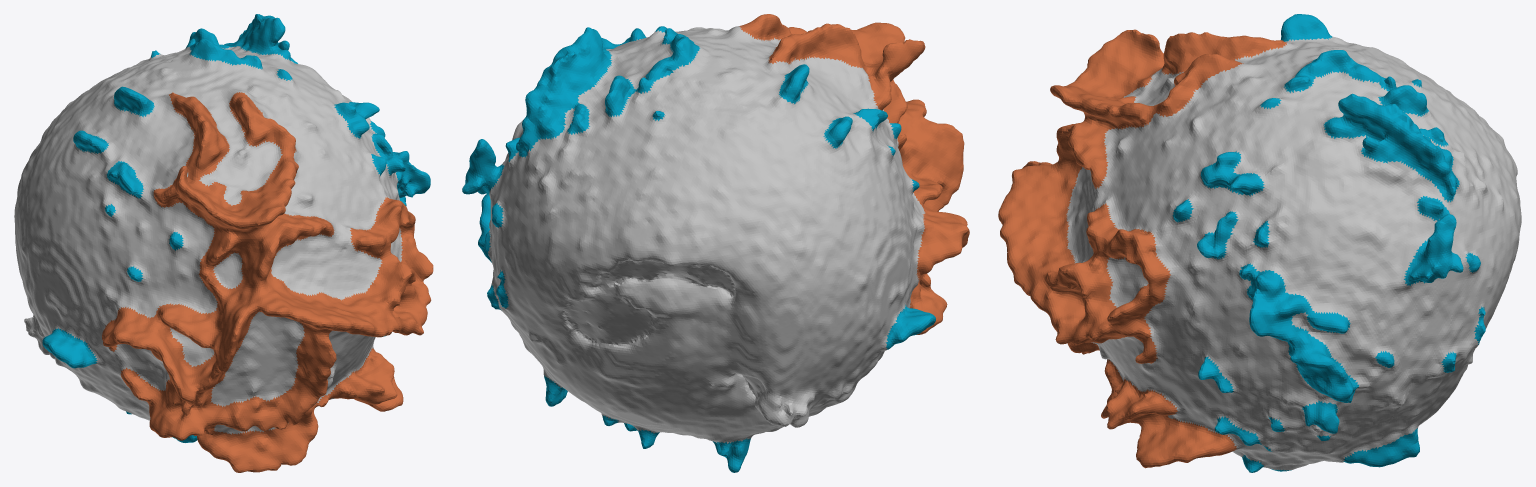
3 views of the same model, side by side, from view 1: azimuth 30°, elevation 25°; view 2: azimuth 150°, elevation 25°; view 3: azimuth 270°, elevation 25° (orthographic). The views are drawn at different scales.
Size of the model in its own units: 152 by 140 by 164.
